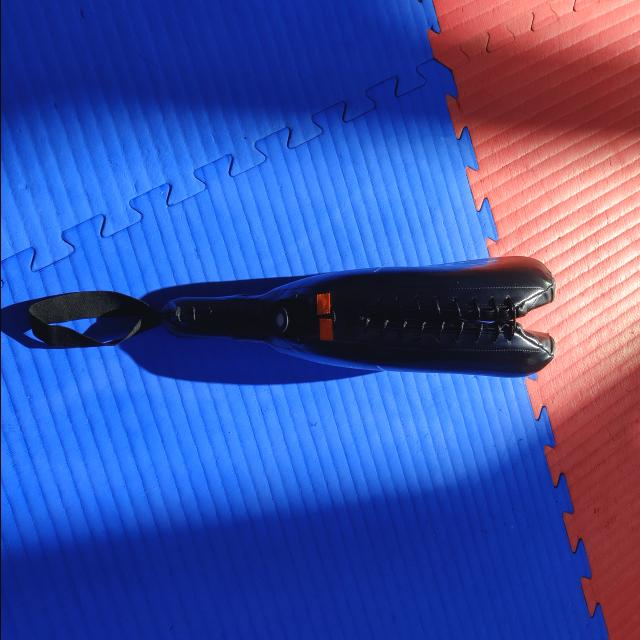paddle: (162, 250, 558, 382)
